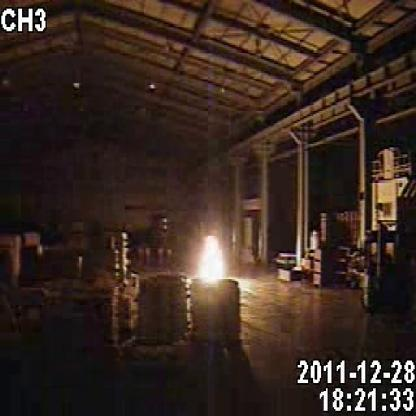fire: (174, 225, 256, 312)
